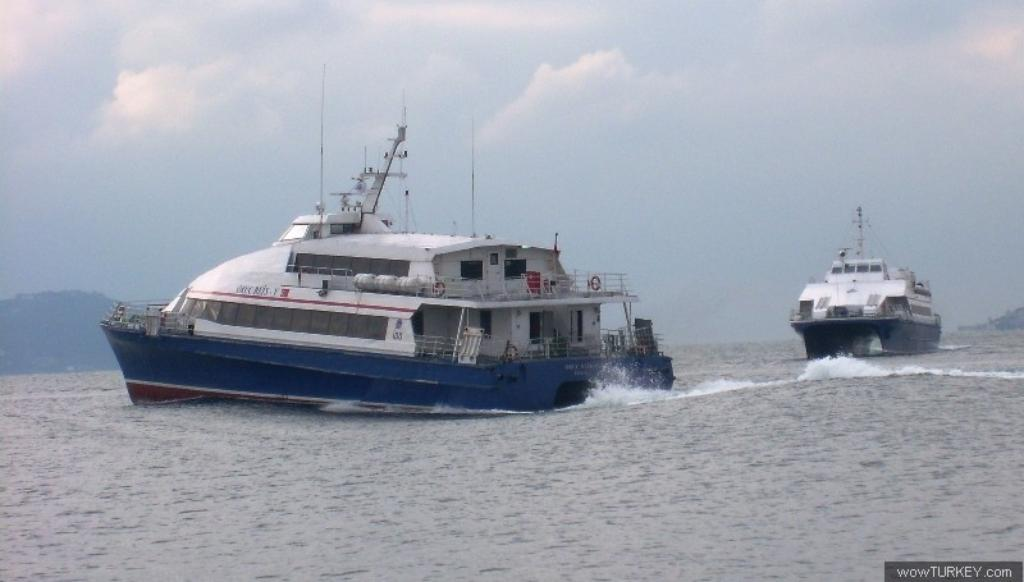PassengerShip: (90, 83, 684, 413), (784, 202, 950, 368)
